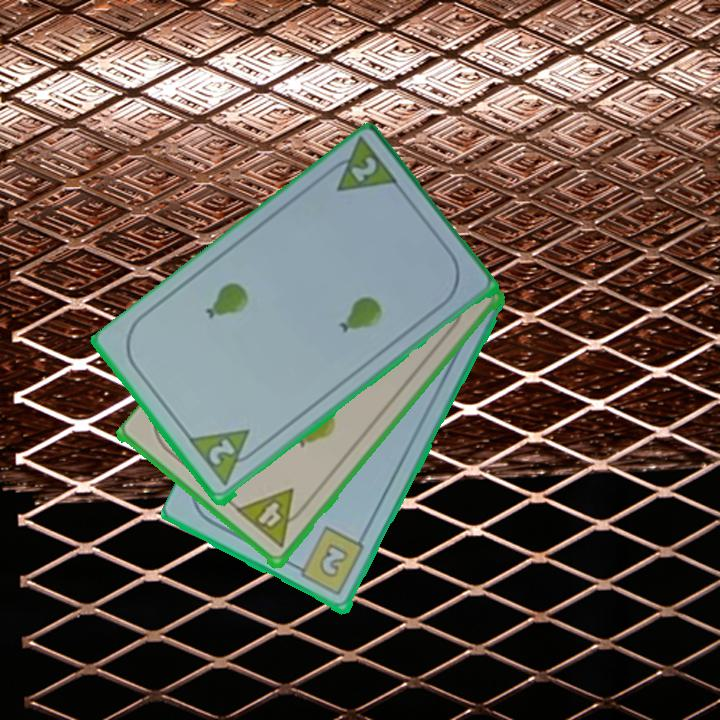2b: (290, 524, 367, 599)
2p: (186, 426, 265, 490), (347, 153, 380, 186)
4p: (234, 485, 311, 552)
